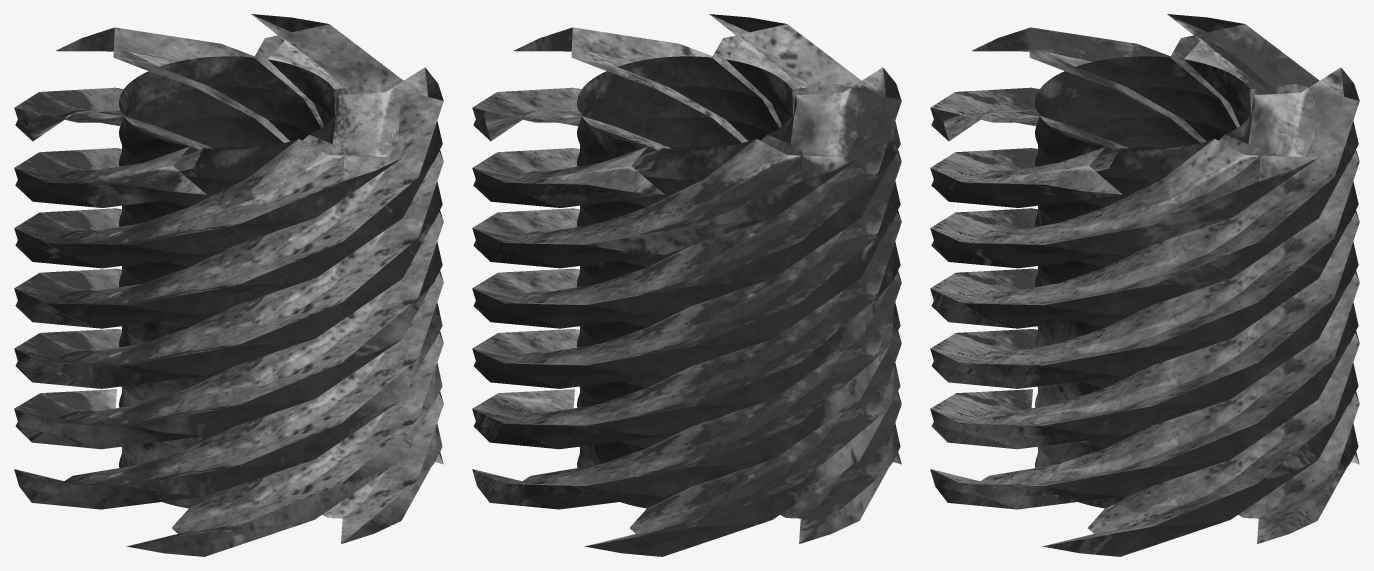
File: Spring.fbx
The picture shows the model from 3 angles, left to right: view 1: azimuth 30°, elevation 25°; view 2: azimuth 150°, elevation 25°; view 3: azimuth 270°, elevation 25°; orthographic projection.
Visible parts, largest first — view 1: Spring; view 2: Spring; view 3: Spring.
Boxes of the visible parts, box(x1,y1,x2,y2) form: Spring: box(14, 14, 443, 556); Spring: box(472, 14, 901, 556); Spring: box(930, 14, 1359, 556).
Size of the model in its own units: 150 by 140 by 150.
Materials: 1 (1 with a texture image).
